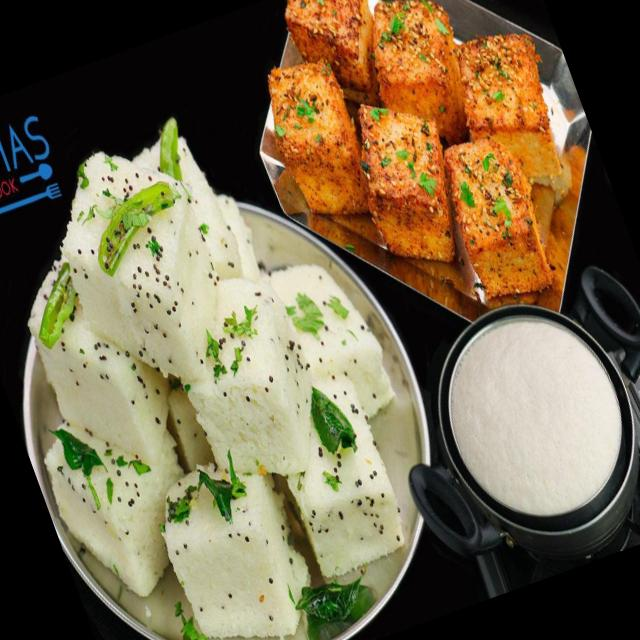dhokla: (0, 90, 451, 640), (222, 0, 619, 352)
